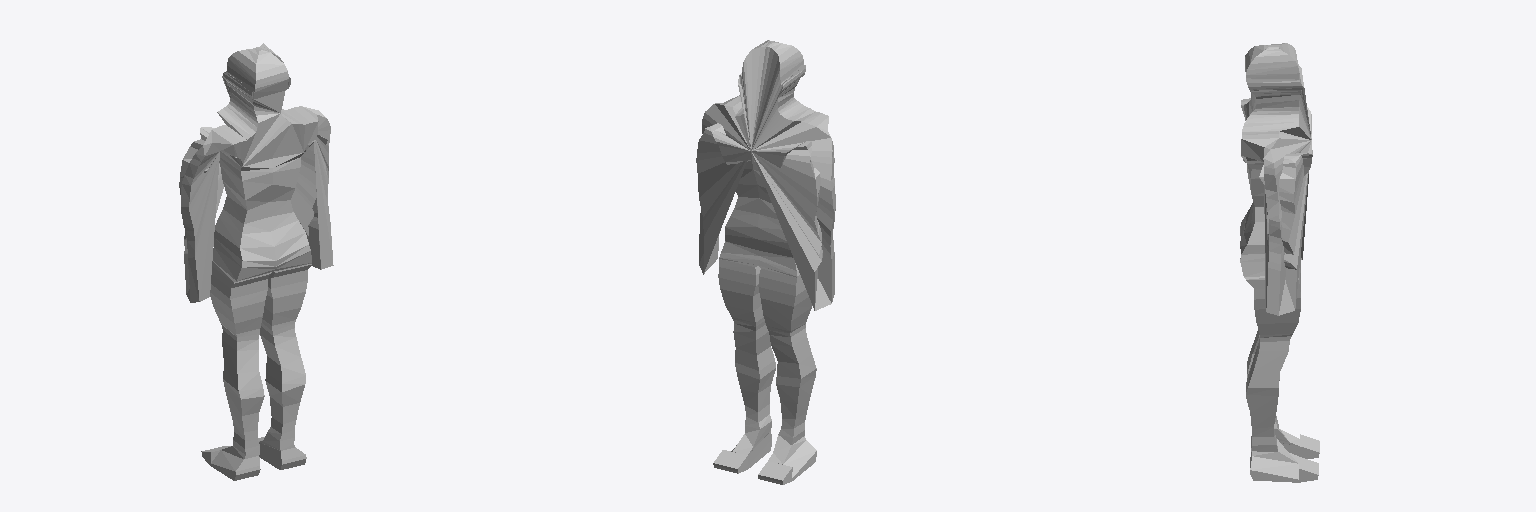
File: woman_000001.obj
3 renders of one model, left to right at view 1: azimuth 30°, elevation 25°; view 2: azimuth 150°, elevation 25°; view 3: azimuth 270°, elevation 25°, orthographic.
Parts seen in each view (by area): view 1: Cube_Cube.001; view 2: Cube_Cube.001; view 3: Cube_Cube.001.
Part boxes in pixels (x1,y1,x2,y2): Cube_Cube.001: (179,43,333,480); Cube_Cube.001: (696,40,835,484); Cube_Cube.001: (1240,43,1319,482).
Size of the model in its own units: 3.51 by 9.95 by 1.72.